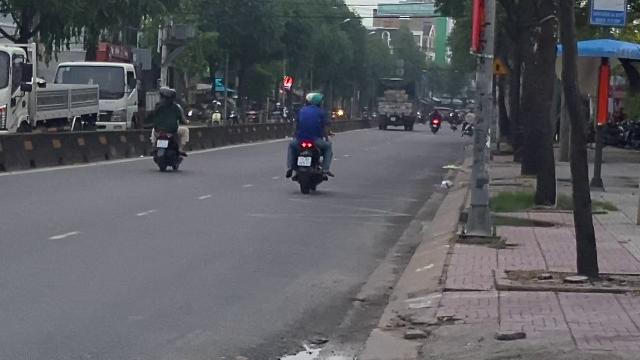helmet: (309, 93, 325, 108)
licenseplate: (297, 158, 311, 166)
motorcyclist: (284, 90, 338, 194)
